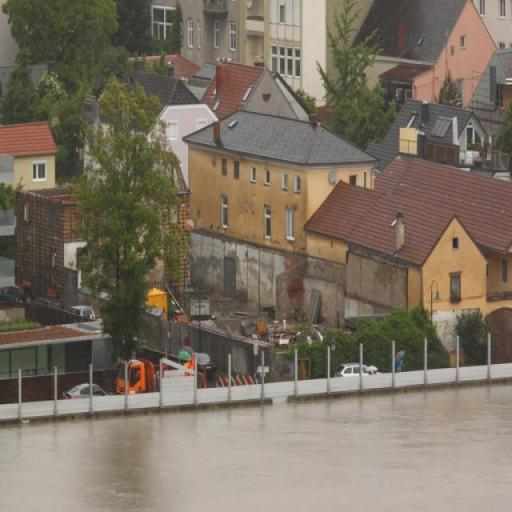flood: (0, 386, 512, 512)
house: (183, 108, 379, 322), (304, 151, 512, 317), (354, 0, 502, 102), (16, 186, 94, 306), (264, 0, 333, 93), (396, 98, 474, 172), (3, 118, 63, 196), (206, 1, 270, 70), (471, 45, 512, 130)
